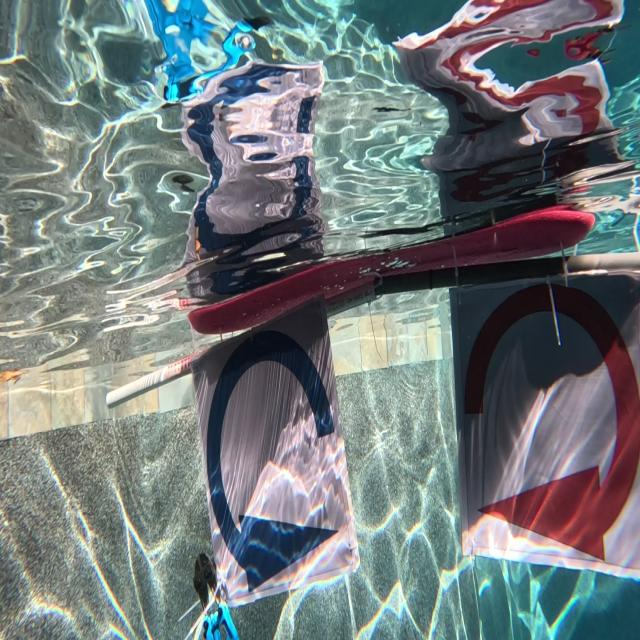blue_side: (204, 328, 352, 585)
red_side: (456, 284, 632, 556)
